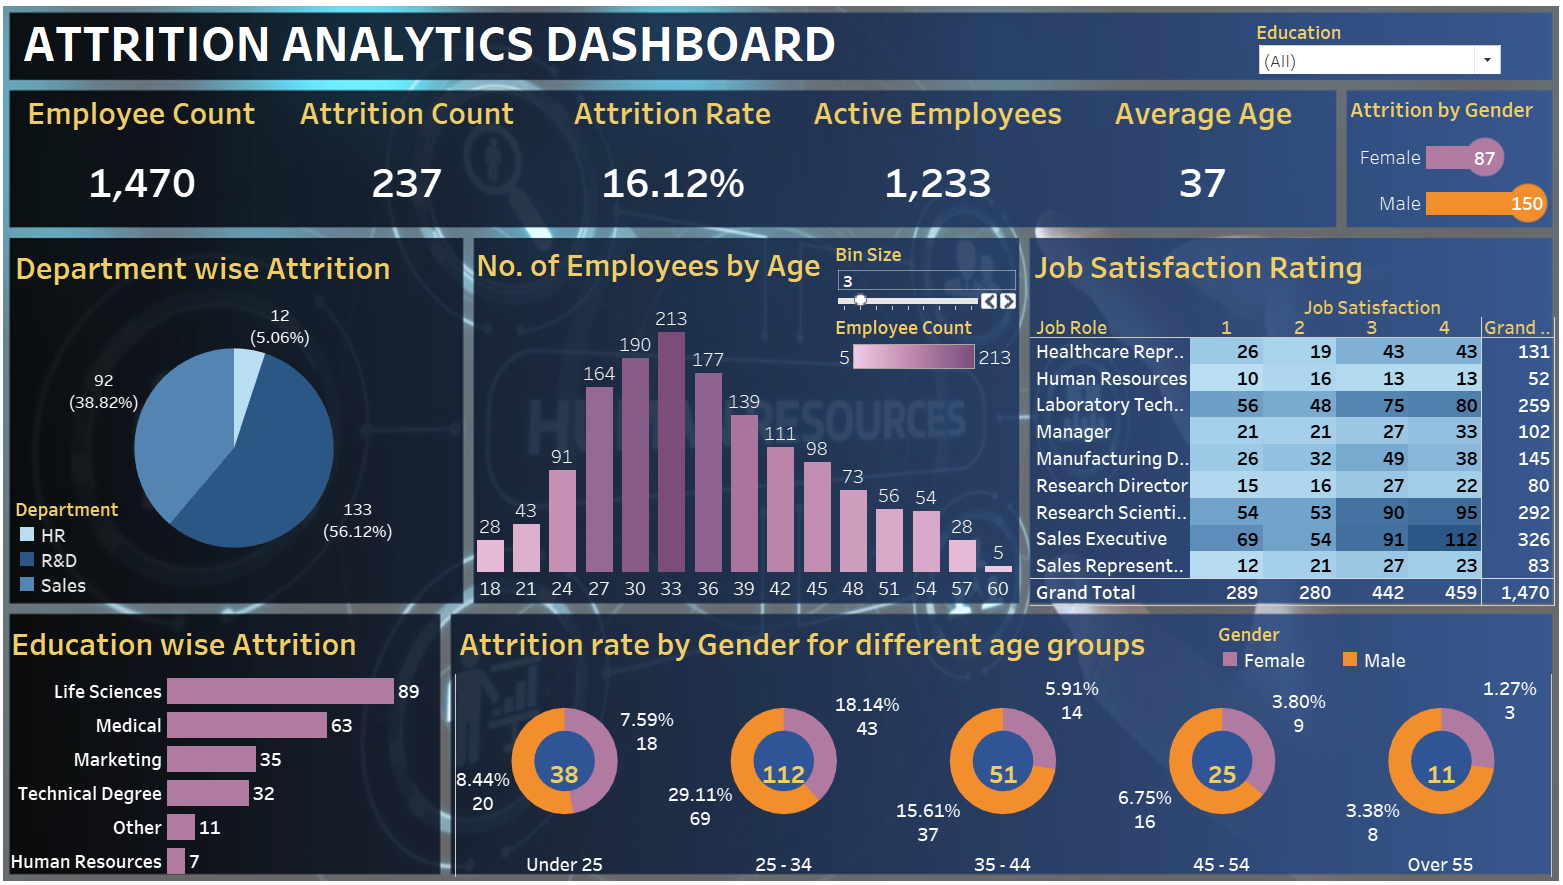

The dashboard page shown, as its layout file describes it:
{"tool":"tableau","page":{"name":"Dashboard 1","canvas":[1580,900],"ordinal":0},"visuals":[{"type":"image","param":"C:/Users/himad/OneDrive/Tablue/HR Dashboard/HR background.pptx.png","box":[8,8,1564,884]},{"type":"text","box":[28,19,928,56]},{"type":"filter","title":"Department wise Attrition","param":"[federated.091i6ly1n6vvlz1890mya00a6ouq].[none:Education:nk]","box":[1265,25,248,55]},{"type":"worksheet","title":"Attrition by Gender","mark":"Automatic","rows":["Gender"],"cols":["Calculation_1016406157422567424","Calculation_1016406157422567424"],"box":[1355,97,207,135]},{"type":"worksheet","title":"KPI","mark":"Automatic","box":[18,98,1327,137]},{"type":"worksheet","title":"No. of Employees by Age","mark":"Automatic","rows":["Employee Count"],"cols":["Age (bin)"],"box":[481,245,545,362]},{"type":"parameter","param":"[Parameters].[Parameter 1]","box":[844,247,184,75]},{"type":"worksheet","title":"Job Satisfaction Rating","mark":"Square","rows":["Job Role"],"cols":["Job Satisfaction"],"box":[1039,247,525,365]},{"type":"worksheet","title":"Department wise Attrition","mark":"Pie","box":[20,248,446,356]},{"type":"legend","title":"No. of Employees by Age","param":"[federated.091i6ly1n6vvlz1890mya00a6ouq].[sum:Employee Count:qk]","box":[844,320,181,67]},{"type":"legend","title":"Department wise Attrition","param":"[federated.091i6ly1n6vvlz1890mya00a6ouq].[none:Department:nk]","box":[24,502,119,101]},{"type":"worksheet","title":"Education wise Attrition","mark":"Automatic","rows":["Education Field"],"cols":["Calculation_1016406157422567424"],"box":[16,624,430,260]},{"type":"worksheet","title":"Attrition rate by Gender for different age groups","mark":"Pie","rows":["Calculation_1016406161330905093","Calculation_1016406161330905093"],"cols":["CF_age band"],"box":[464,624,1097,260]},{"type":"legend","title":"Attrition rate by Gender for different age groups","param":"[federated.091i6ly1n6vvlz1890mya00a6ouq].[none:Gender:nk]","box":[1227,627,340,53]}]}

Visuals, with their boxes in screenshot pixels (x1, y1, x2, y2), scaled from the page's 1580x900 canvas onto the 1563x885 screenshot:
image: <region>8, 8, 1555, 877</region>
text: <region>28, 19, 946, 74</region>
"Department wise Attrition" filter: <region>1251, 25, 1497, 79</region>
"Attrition by Gender" worksheet: <region>1340, 95, 1545, 228</region>
"KPI" worksheet: <region>18, 96, 1331, 231</region>
"No. of Employees by Age" worksheet: <region>476, 241, 1015, 597</region>
parameter: <region>835, 243, 1017, 317</region>
"Job Satisfaction Rating" worksheet (Square marks): <region>1028, 243, 1547, 602</region>
"Department wise Attrition" worksheet (Pie marks): <region>20, 244, 461, 594</region>
"No. of Employees by Age" legend: <region>835, 315, 1014, 381</region>
"Department wise Attrition" legend: <region>24, 494, 141, 593</region>
"Education wise Attrition" worksheet: <region>16, 614, 441, 869</region>
"Attrition rate by Gender for different age groups" worksheet (Pie marks): <region>459, 614, 1544, 869</region>
"Attrition rate by Gender for different age groups" legend: <region>1214, 617, 1550, 669</region>
